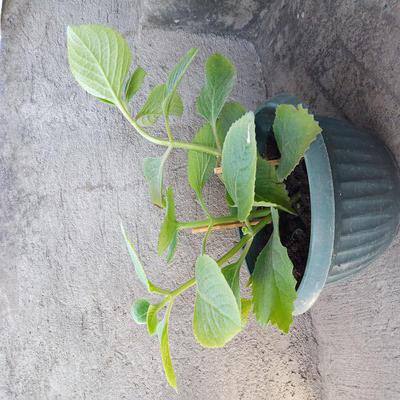Oregano: (69, 66, 310, 352)
